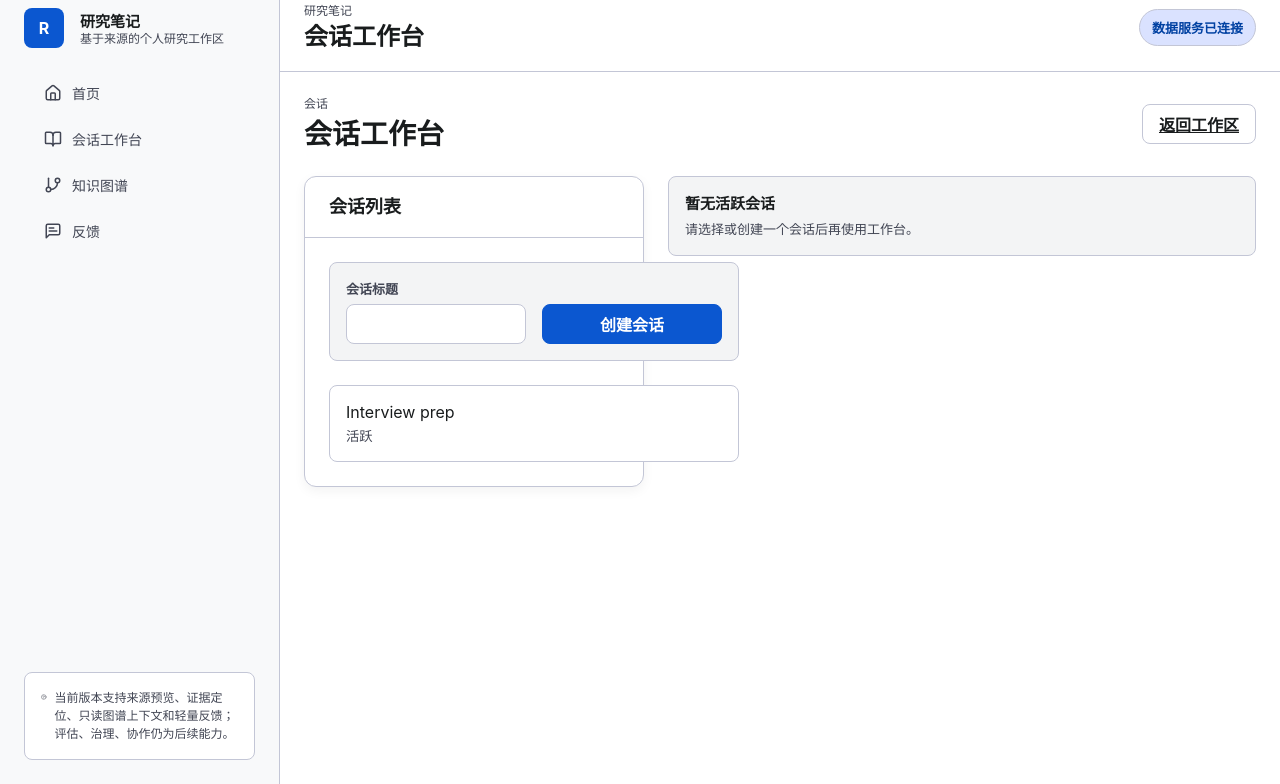
it: 会话工作台 smoke › ingests snippet and starts session build
The image size is (1280, 784).
Click the button "Interview prep 活跃". click: (400, 412)
box: [329,385,739,462]
(page scrolled)
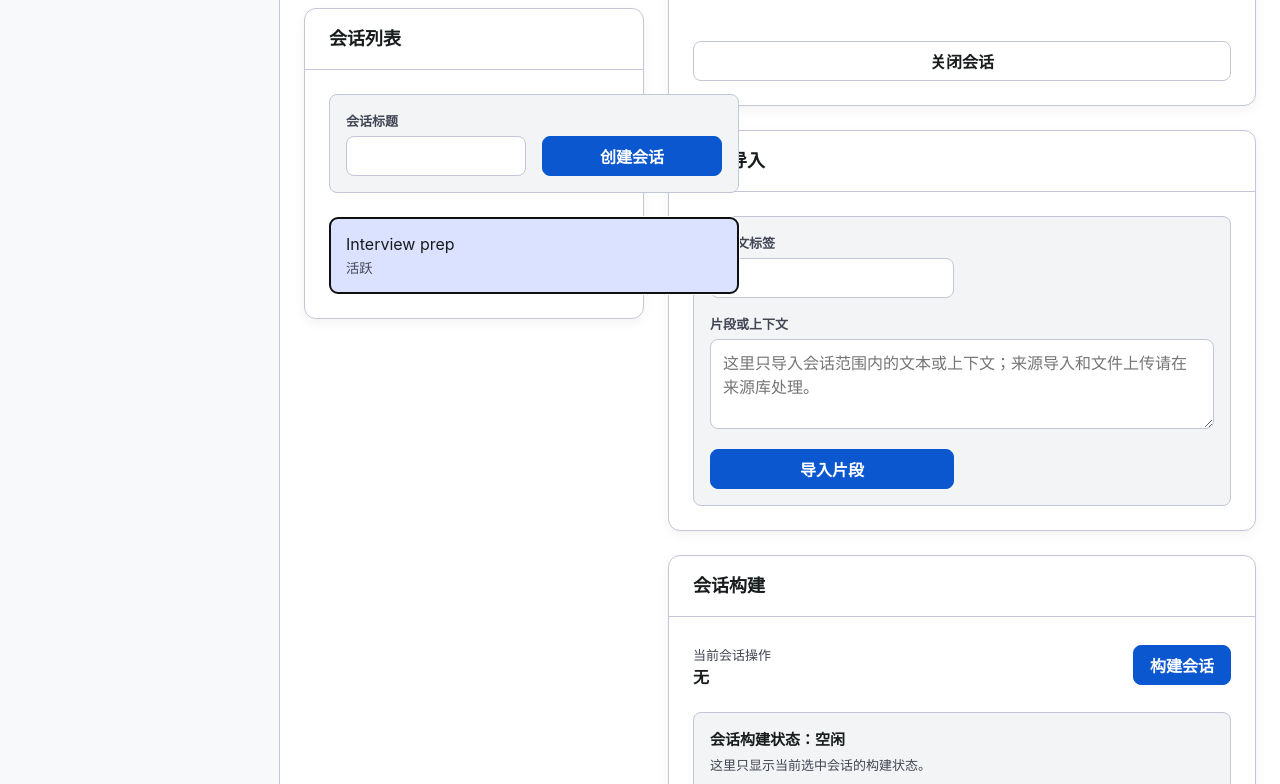
Type "Hash table review notes" into the text box labelled "片段或上下文". click: (962, 384)
box: [710,339,1214,429]
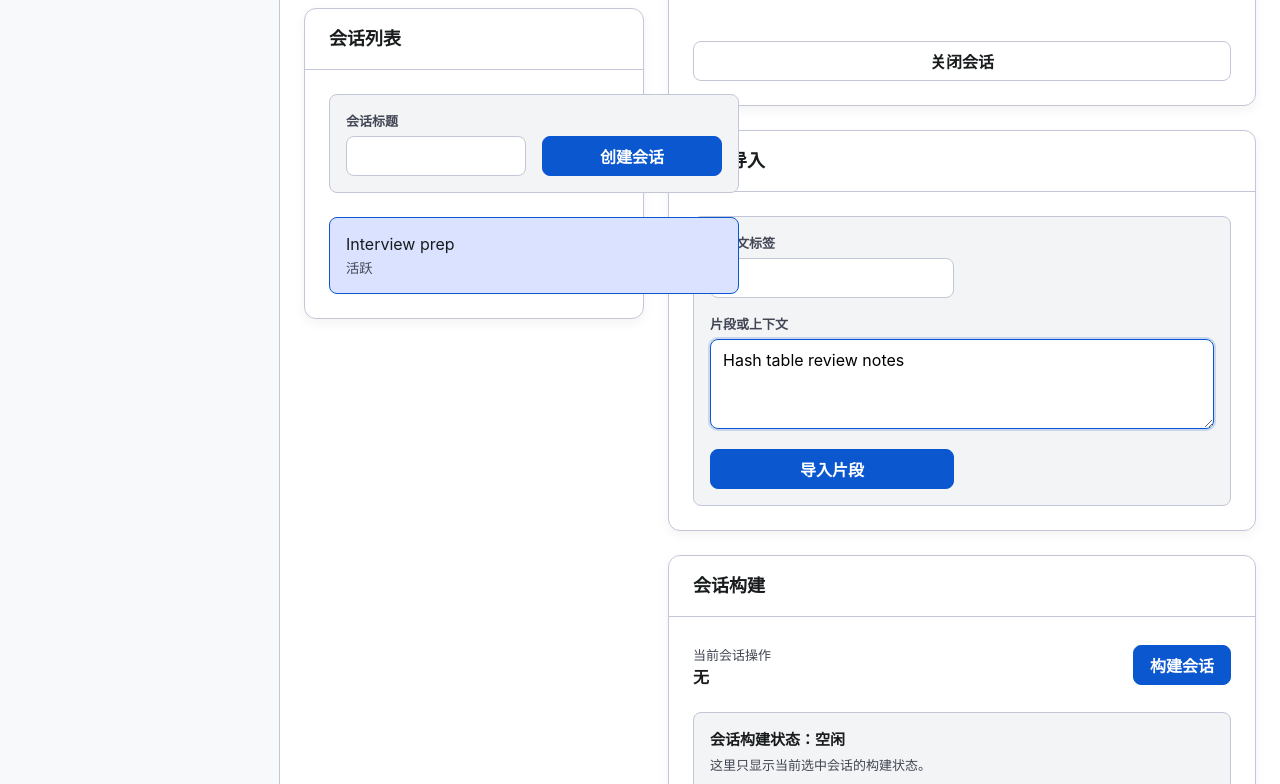
Click the button "导入片段". click: (832, 469)
box: [710,449,954,489]
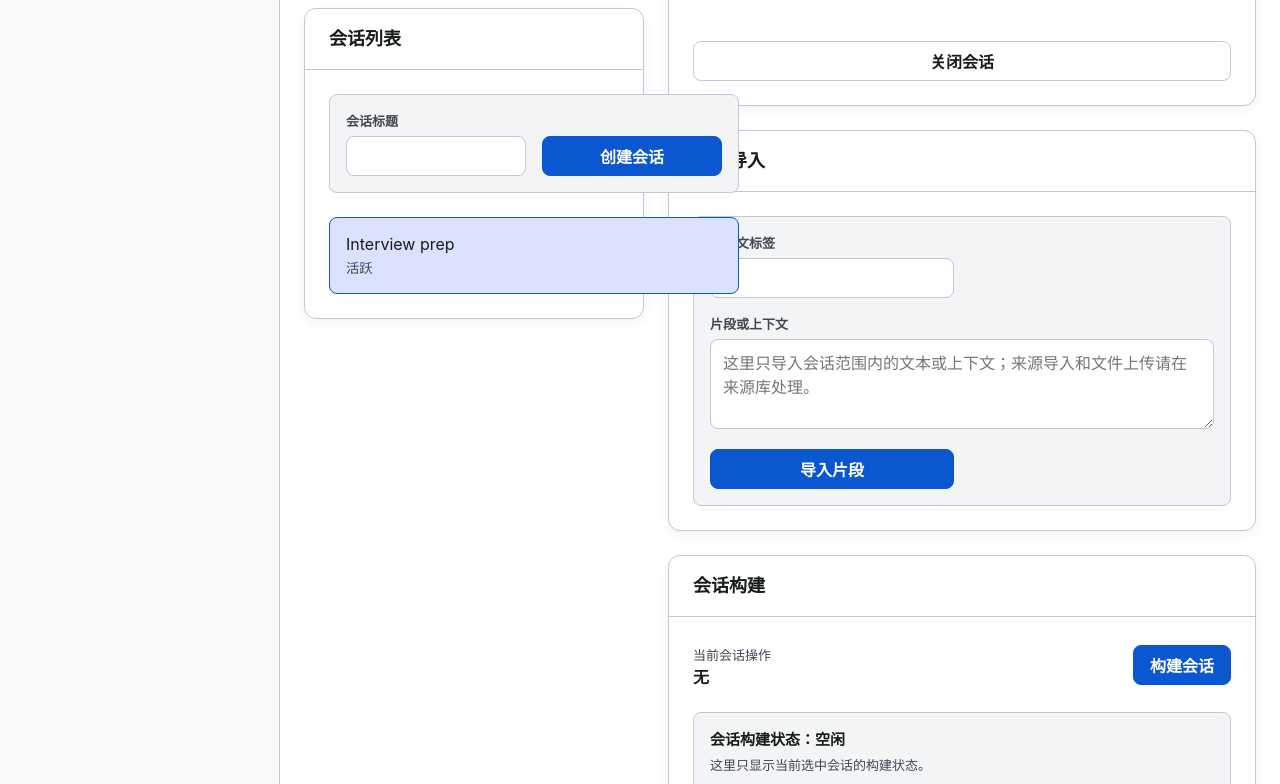
Click the button "构建会话". click: (1182, 665)
box: [1133,645,1231,685]
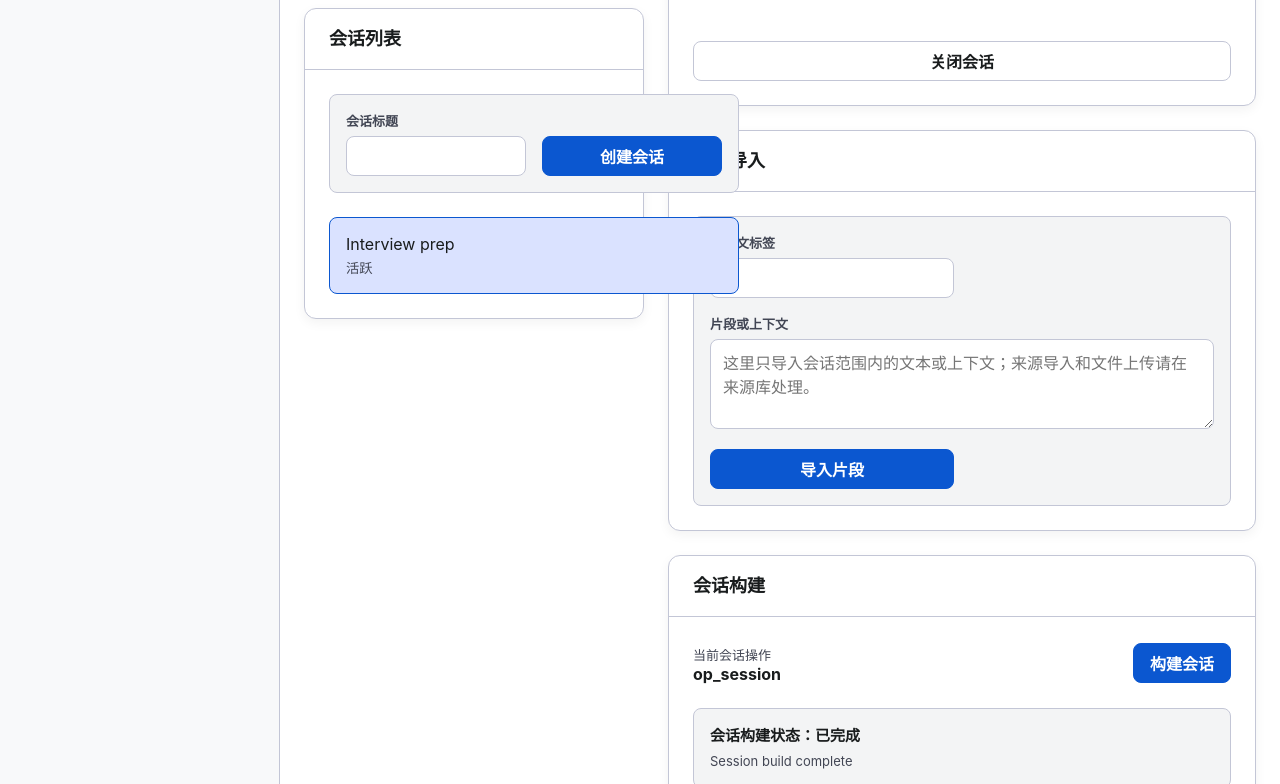
expect the heading "会话构建状态：已完成" is shown: met, box [710,725,860,747]
expect the text "Session build complete" is shown: met, box [710,751,860,771]
